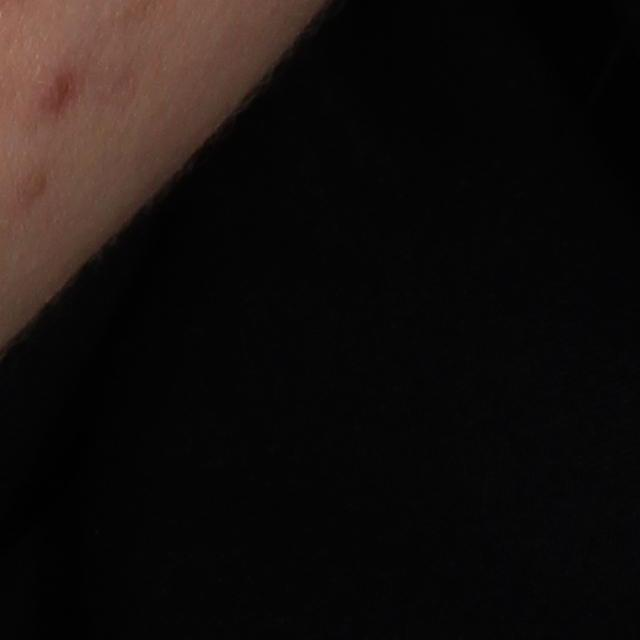papule: (37, 72, 72, 113)
